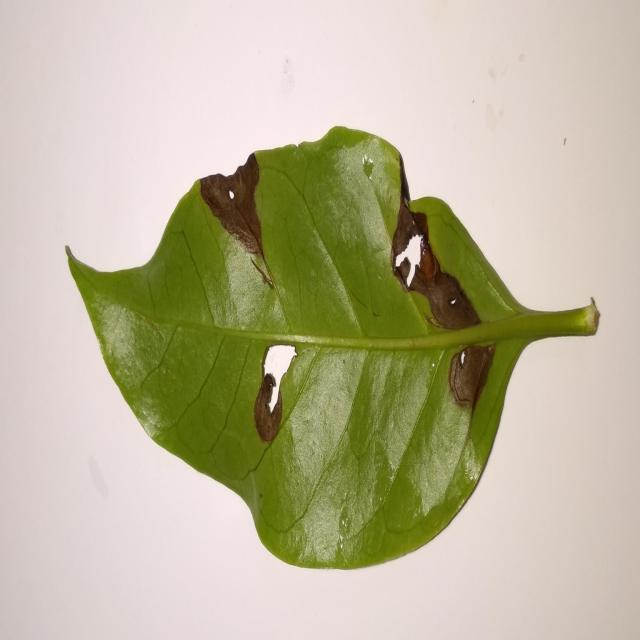Enfermedad-Antracnosis: (63, 127, 601, 574)
